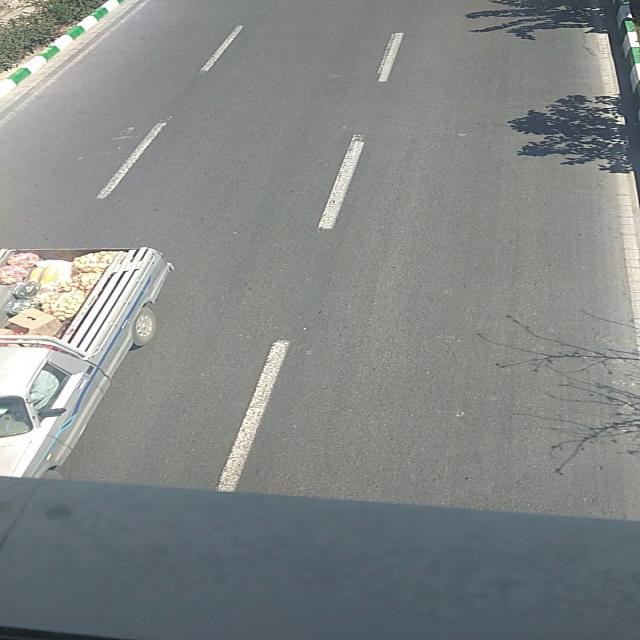car: (0, 247, 180, 479)
